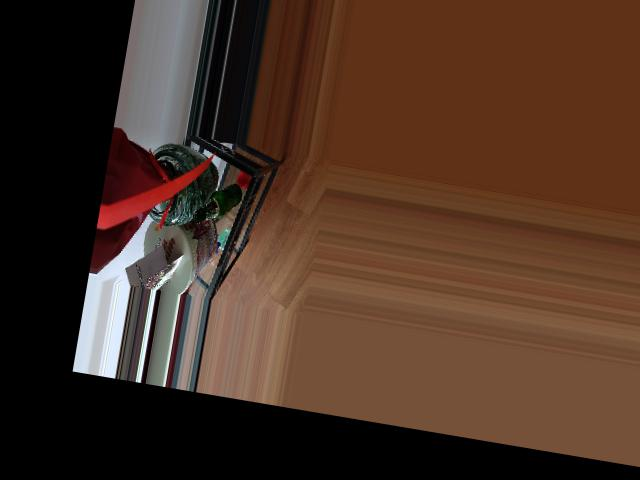beer: (193, 177, 244, 229)
